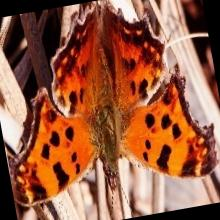butterfly: (10, 6, 217, 205)
